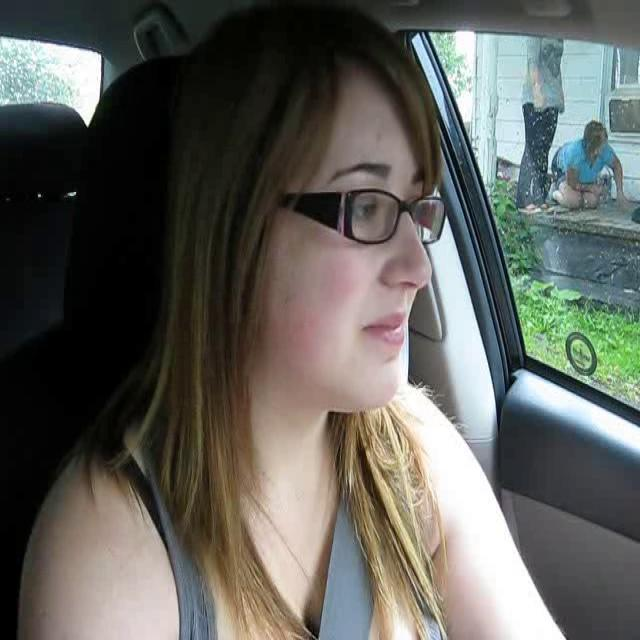close: (352, 307, 410, 353)
